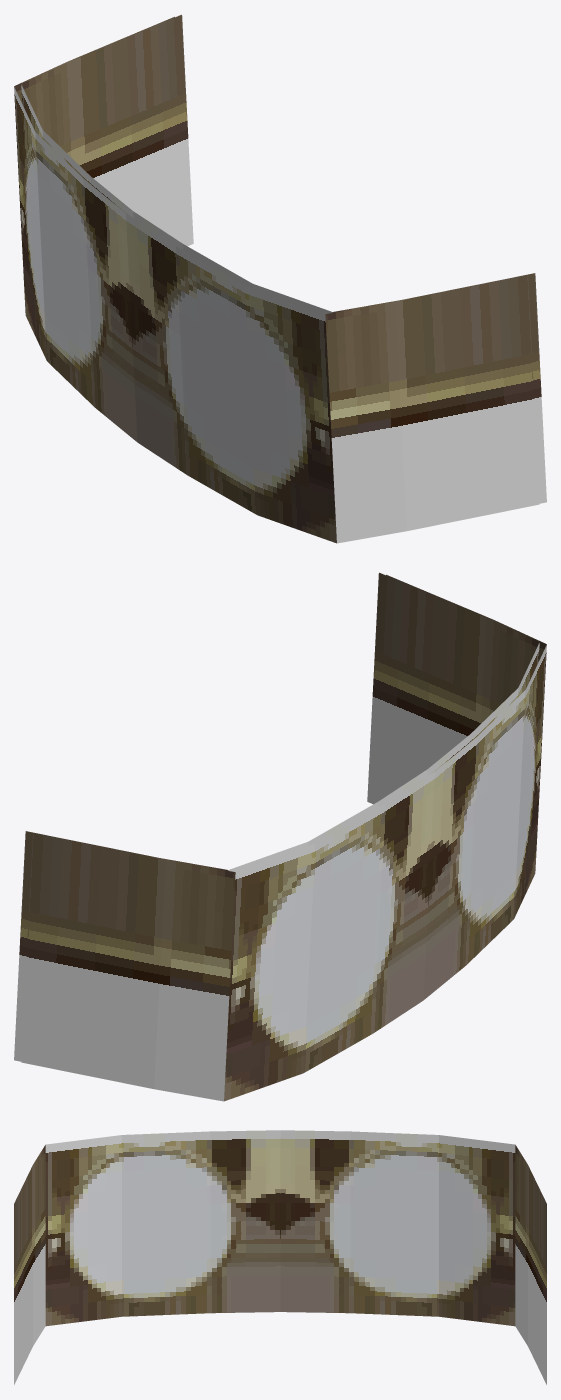
Rendered from Bat_glasses.obj.
The picture shows the model from 3 angles, top to bottom: view 1: azimuth 30°, elevation 25°; view 2: azimuth 150°, elevation 25°; view 3: azimuth 270°, elevation 25°; orthographic projection. The views are drawn at different scales.
Parts seen in each view (by area): view 1: Bat_glasses_tri; view 2: Bat_glasses_tri; view 3: Bat_glasses_tri.
Part boxes in pixels (x1,y1,x2,y2): Bat_glasses_tri: [14, 14, 546, 543]; Bat_glasses_tri: [14, 572, 546, 1101]; Bat_glasses_tri: [14, 1130, 546, 1384].
Bounding box in the file's own units: 0.0671 × 0.0643 × 0.168.
1 material, 1 textured.
